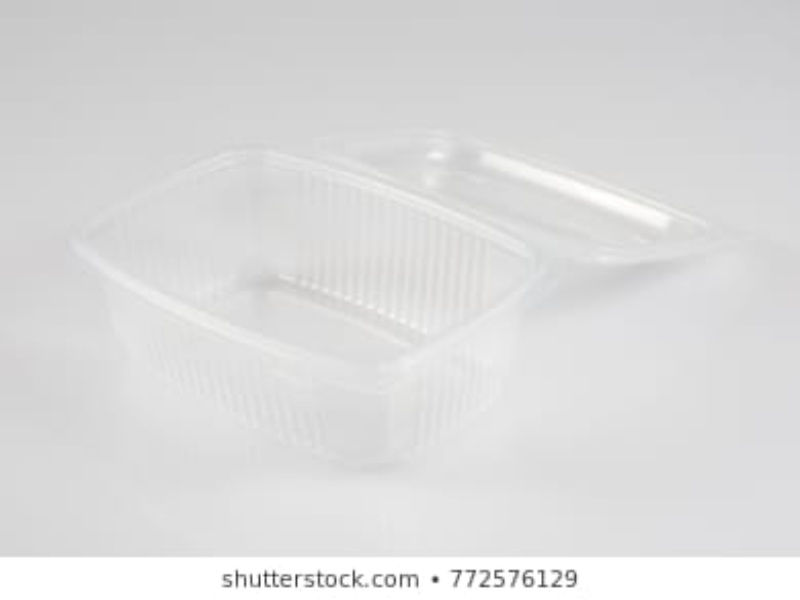plastic-container: (70, 138, 548, 449)
